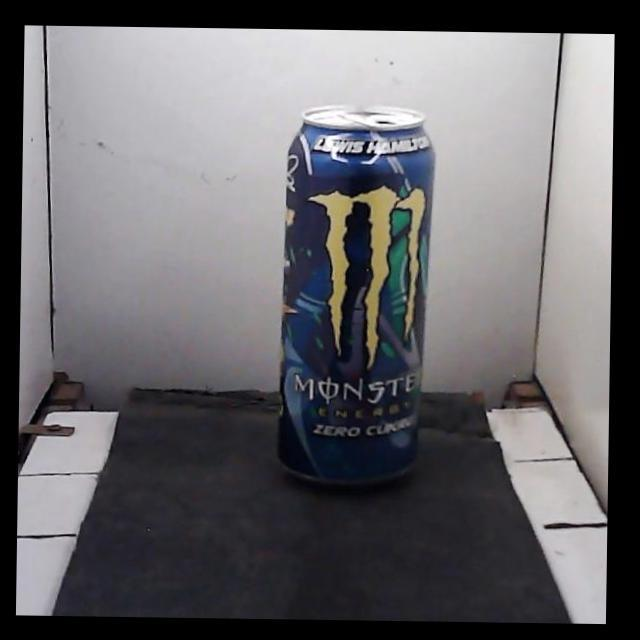metal: (280, 105, 434, 483)
